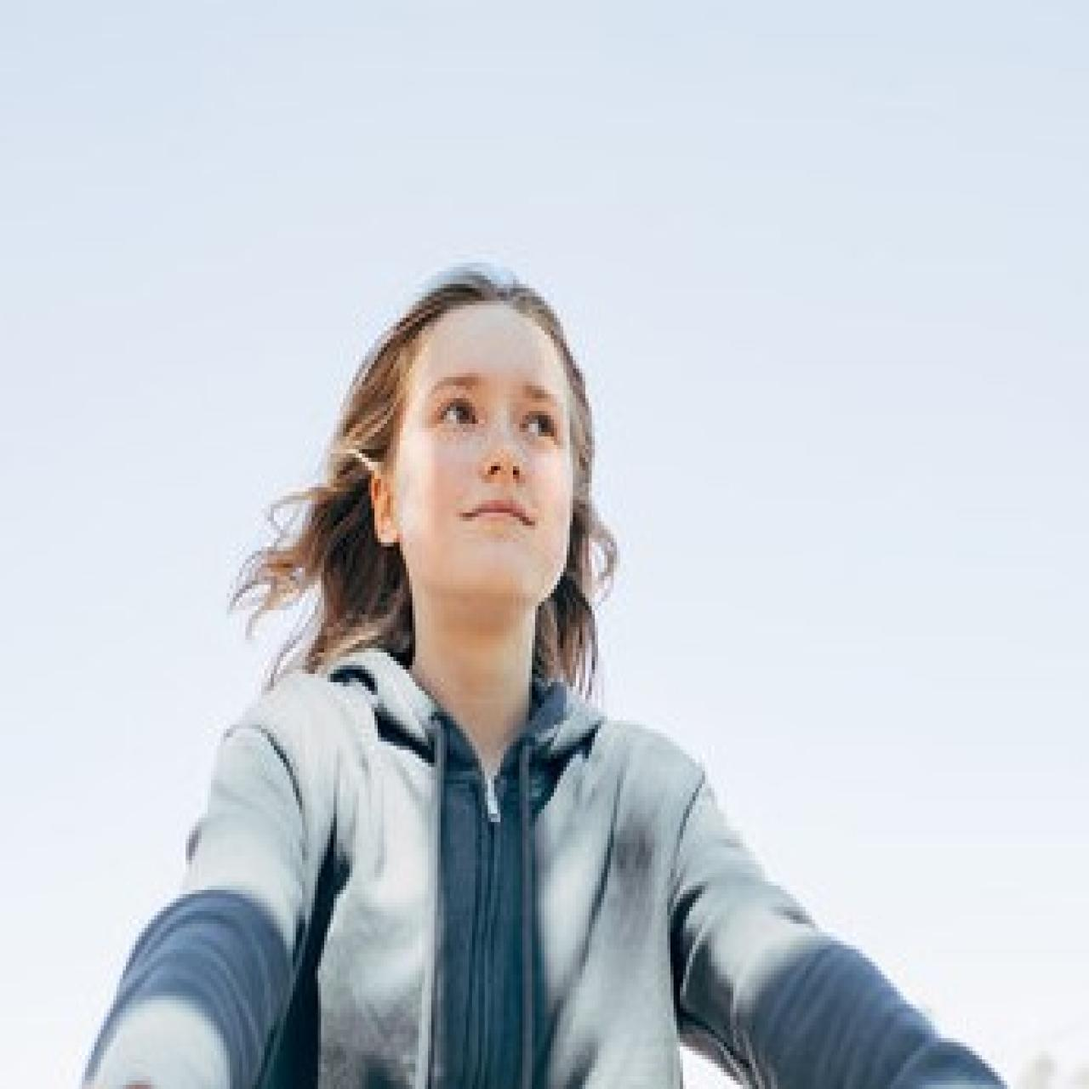NO_Safety_Vest: (236, 640, 705, 1089)
Person: (79, 242, 1013, 1089)
